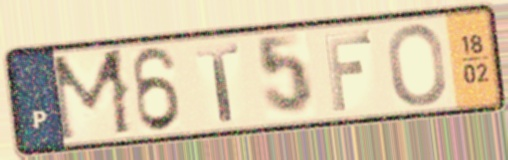5: (252, 30, 319, 122)
6: (129, 44, 185, 135)
F: (320, 29, 374, 114)
M: (47, 46, 137, 146)
O: (385, 21, 450, 109)
T: (193, 40, 243, 124)
